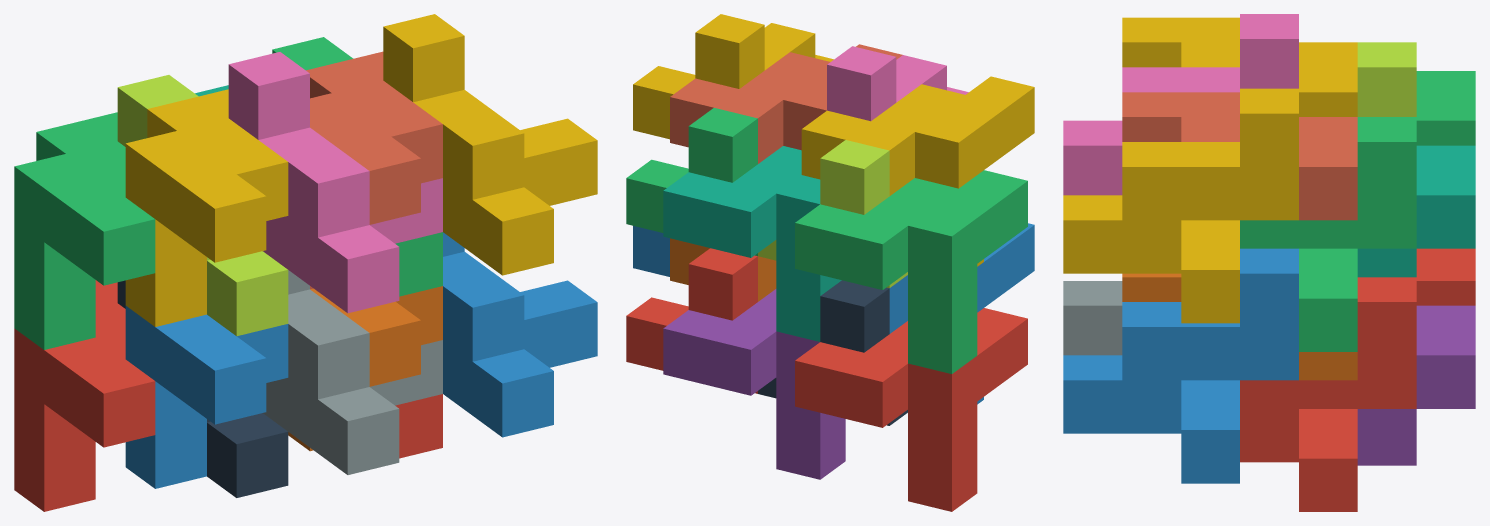
The model's file is tiling.obj.
3 views of the same model, side by side, from view 1: azimuth 30°, elevation 25°; view 2: azimuth 150°, elevation 25°; view 3: azimuth 270°, elevation 25° (orthographic). The views are drawn at different scales.
Parts seen in each view (by area): view 1: copy_2_domain_8, copy_1_domain_4, copy_2_domain_4, copy_1_domain_3, copy_2_domain_6, copy_1_domain_1, copy_2_domain_2, copy_1_domain_2, copy_1_domain_8, copy_2_domain_3, copy_2_domain_1, copy_1_domain_6 (+2 smaller); view 2: copy_1_domain_3, copy_1_domain_1, copy_1_domain_4, copy_1_domain_7, copy_1_domain_5, copy_1_domain_8, copy_2_domain_8, copy_2_domain_7, copy_2_domain_5, copy_2_domain_4, copy_2_domain_3, copy_2_domain_1 (+3 smaller); view 3: copy_2_domain_8, copy_2_domain_6, copy_2_domain_5, copy_2_domain_7, copy_2_domain_4, copy_1_domain_8, copy_1_domain_4, copy_1_domain_5, copy_1_domain_7, copy_1_domain_3, copy_2_domain_3, copy_2_domain_2 (+2 smaller).
Boxes of the visible parts, x1,y1,x2,y2 form: copy_2_domain_8: (383,14,597,275); copy_1_domain_4: (125,89,288,326); copy_2_domain_4: (228,52,442,313); copy_1_domain_3: (14,112,155,349); copy_2_domain_6: (443,232,597,437); copy_1_domain_1: (14,280,155,511); copy_2_domain_2: (263,270,442,474); copy_1_domain_2: (125,306,288,488); copy_1_domain_8: (306,51,442,289); copy_2_domain_3: (117,75,288,336); copy_2_domain_1: (117,280,288,497); copy_1_domain_6: (288,286,442,451); copy_1_domain_3: (795,170,1027,373); copy_1_domain_1: (795,308,1027,511); copy_1_domain_4: (801,76,1034,266); copy_1_domain_7: (663,146,841,341); copy_1_domain_5: (663,289,845,479); copy_1_domain_8: (670,44,902,163); copy_2_domain_8: (633,14,833,139); copy_2_domain_7: (626,108,757,255); copy_2_domain_5: (626,248,757,393); copy_2_domain_4: (827,46,968,121); copy_2_domain_3: (758,140,907,288); copy_2_domain_1: (758,280,907,425); copy_2_domain_8: (1063,88,1298,323); copy_2_domain_6: (1063,248,1298,483); copy_2_domain_5: (1240,277,1416,511); copy_2_domain_7: (1240,117,1416,351); copy_2_domain_4: (1063,14,1298,195); copy_1_domain_8: (1122,92,1357,220); copy_1_domain_4: (1122,17,1357,116); copy_1_domain_5: (1357,305,1475,465); copy_1_domain_7: (1357,145,1475,277); copy_1_domain_3: (1416,71,1475,145); copy_2_domain_3: (1357,42,1416,116); copy_2_domain_2: (1063,281,1122,355).
Bounding box in the file's own units: 9 × 8 × 7.
